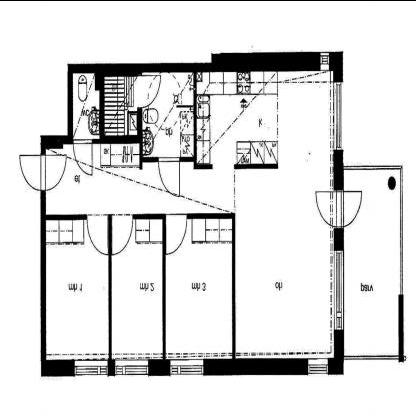door: (311, 185, 362, 235), (19, 149, 67, 199), (81, 203, 111, 263), (159, 206, 190, 264), (108, 207, 136, 262), (313, 181, 341, 235), (43, 140, 70, 195), (338, 181, 364, 231), (156, 153, 183, 201), (69, 135, 97, 179), (19, 149, 45, 196)
window: (328, 240, 348, 338), (328, 74, 348, 154), (71, 350, 111, 383), (165, 355, 207, 386), (110, 355, 151, 383), (303, 352, 331, 378), (317, 42, 333, 79)
